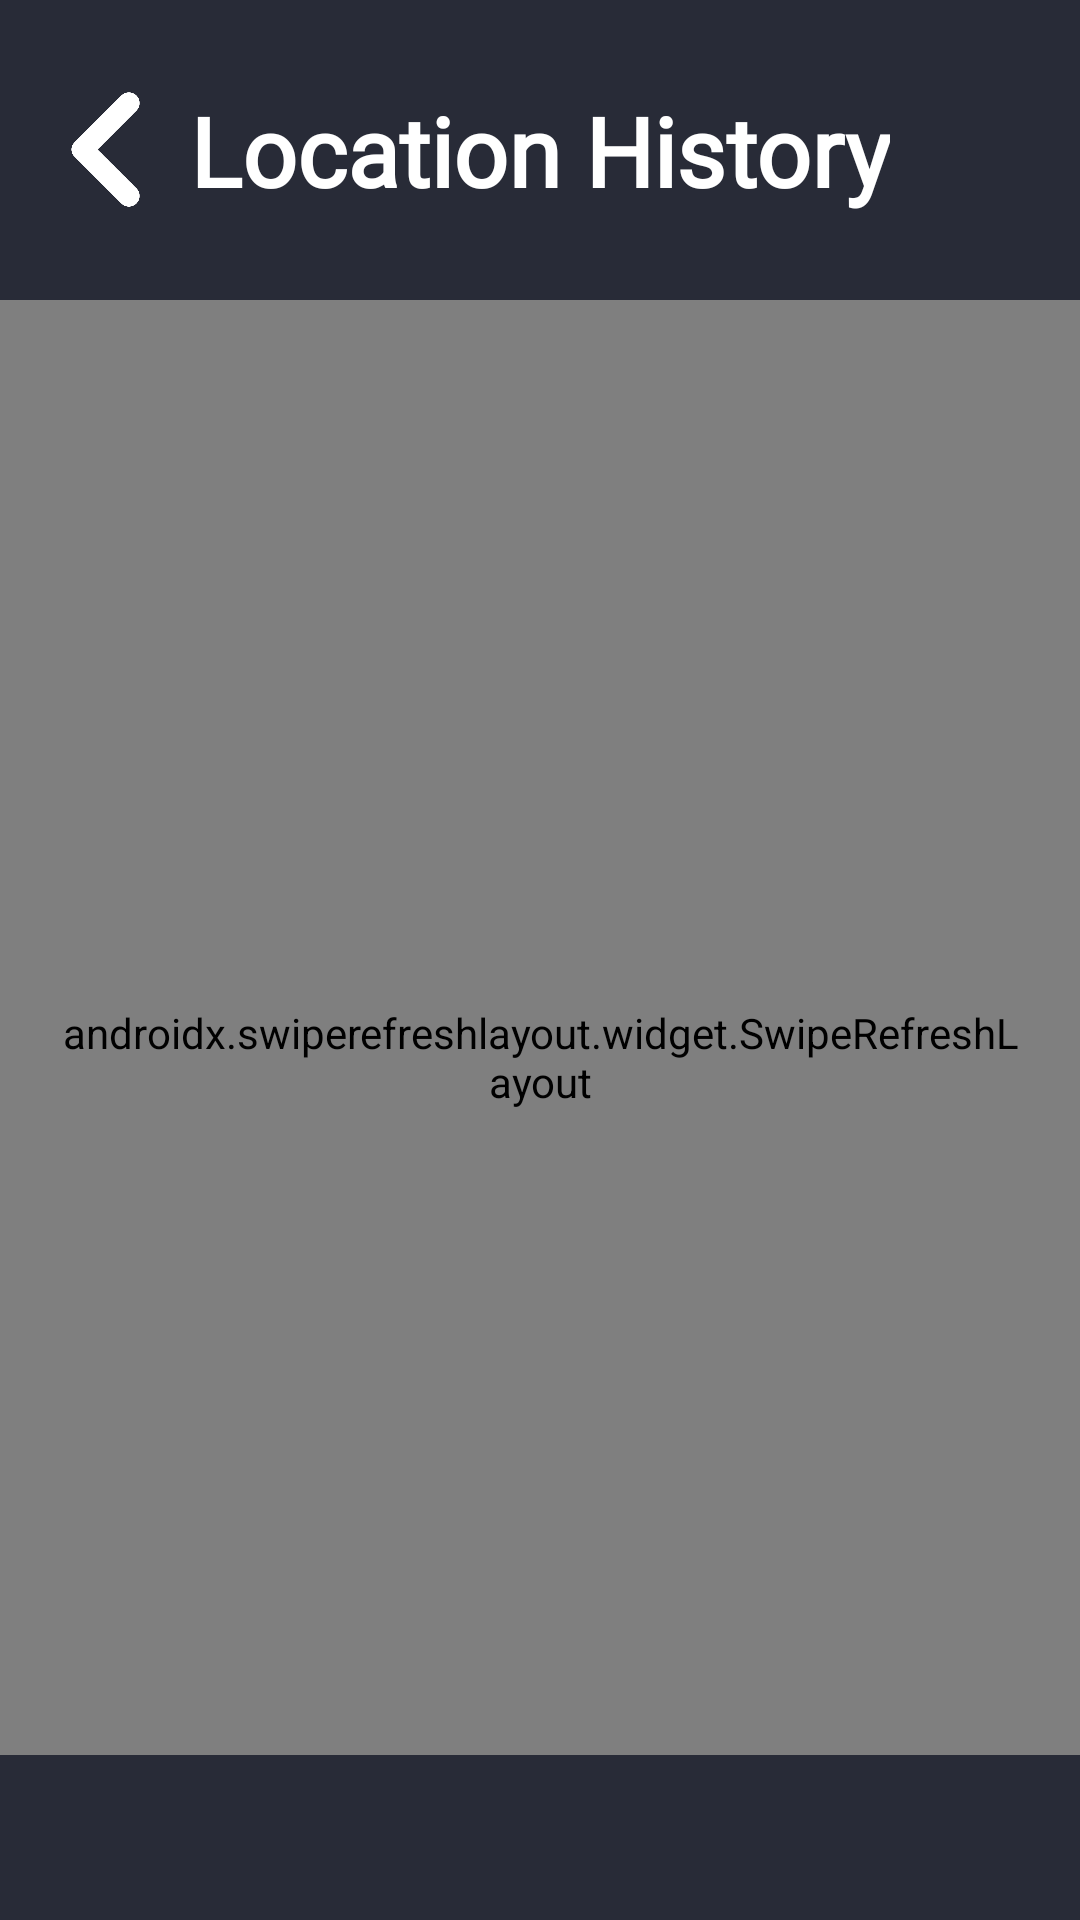

Where to tap for icons on this 1080px×1920px app screen, as (x,y):
back button: (105,149)
